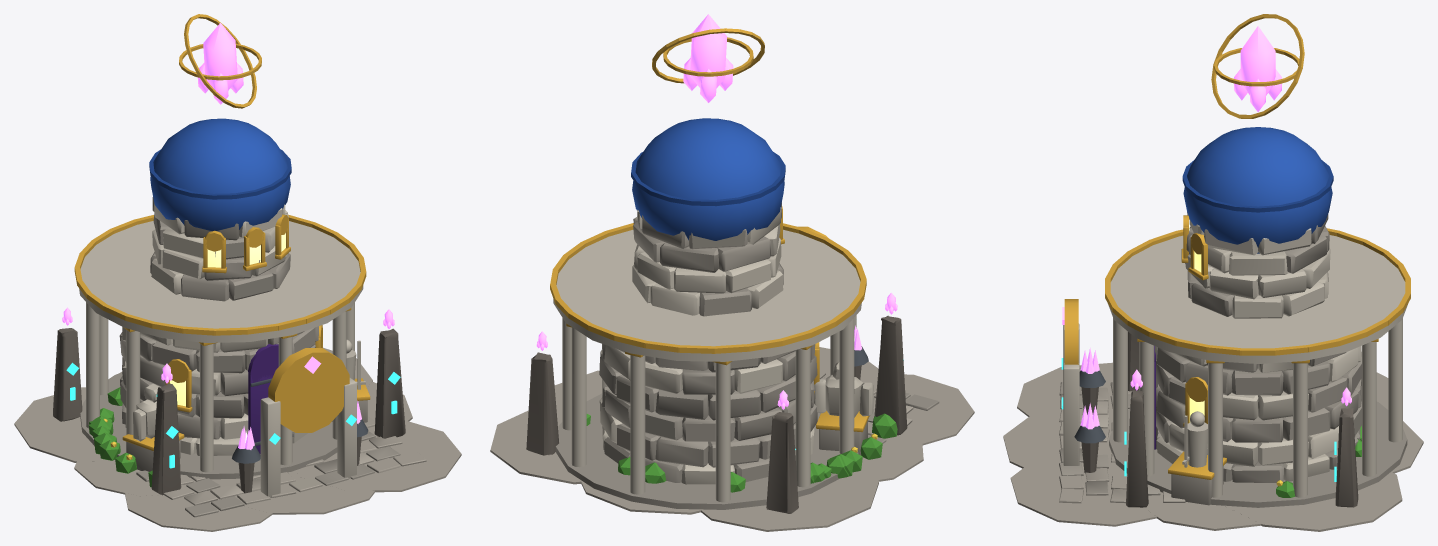
The model's file is budynek_fuzji_poz20.glb.
The picture shows the model from 3 angles, left to right: view 1: azimuth 30°, elevation 25°; view 2: azimuth 150°, elevation 25°; view 3: azimuth 270°, elevation 25°; orthographic projection. The views are drawn at different scales.
Parts seen in each view (by area): view 1: budynek_fuzji_poz20; view 2: budynek_fuzji_poz20; view 3: budynek_fuzji_poz20.
Part boxes in pixels (box(x1,y1,x2,y2)): budynek_fuzji_poz20: box(14, 14, 461, 531); budynek_fuzji_poz20: box(490, 14, 974, 531); budynek_fuzji_poz20: box(1003, 14, 1423, 531).
Size of the model in its own units: 8.76 by 10.11 by 9.01.
